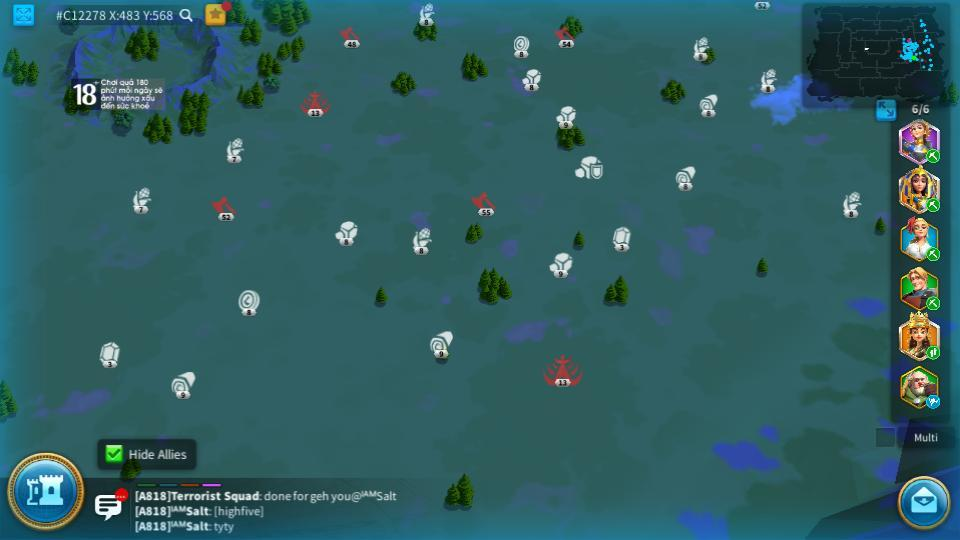gem-z-out: (96, 342, 121, 368), (611, 225, 632, 248)
march_farming: (924, 249, 939, 261)
march_idle: (925, 394, 942, 408)
march_marching: (925, 197, 941, 212), (925, 345, 941, 359), (925, 297, 942, 310), (925, 150, 942, 162)
